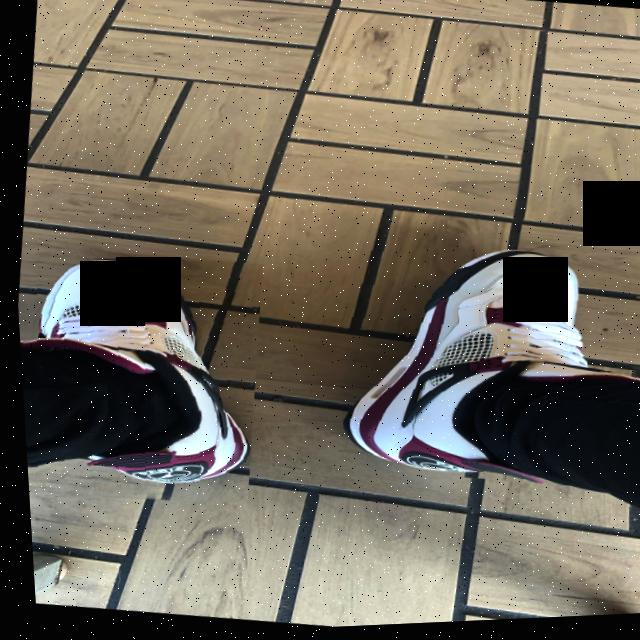shoe: (321, 225, 640, 506), (11, 236, 270, 520)
